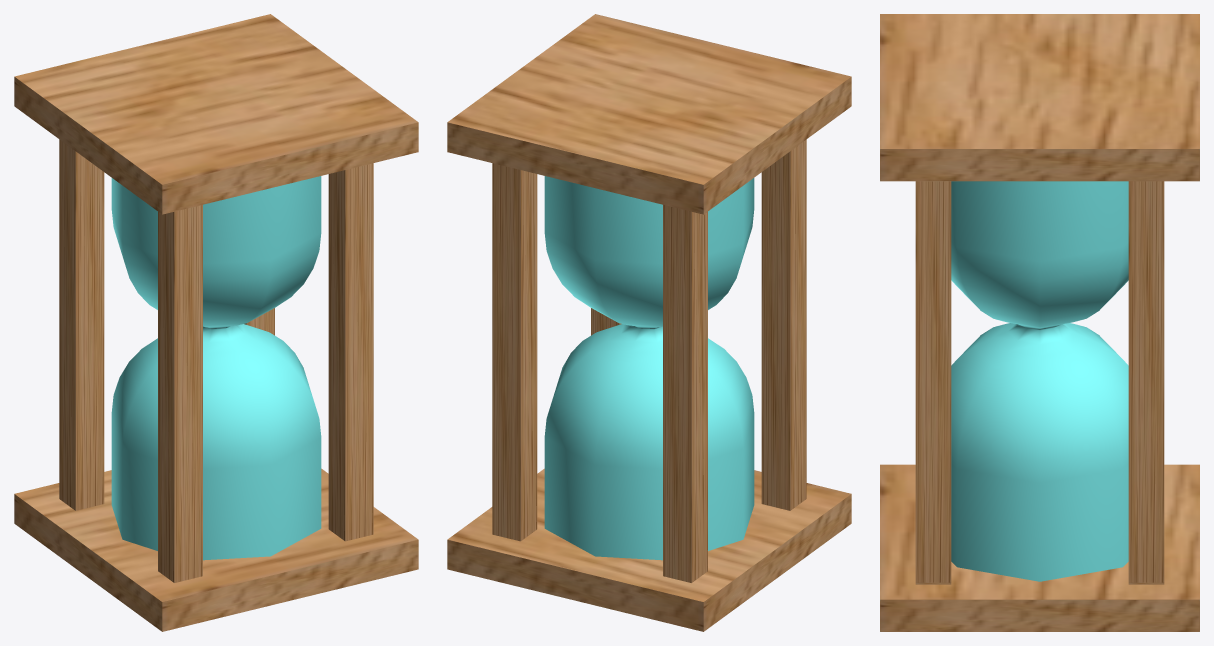
Rendered from hourglass.obj.
The picture shows the model from 3 angles, left to right: view 1: azimuth 30°, elevation 25°; view 2: azimuth 150°, elevation 25°; view 3: azimuth 270°, elevation 25°; orthographic projection. The views are drawn at different scales.
Parts seen in each view (by area): view 1: Cube.002; view 2: Cube.002; view 3: Cube.002.
Boxes of the visible parts, bbox=[...] form: Cube.002: bbox=[14, 14, 418, 631]; Cube.002: bbox=[447, 14, 851, 631]; Cube.002: bbox=[880, 14, 1199, 631].
Bounding box in the file's own units: 9 × 15 × 9.
